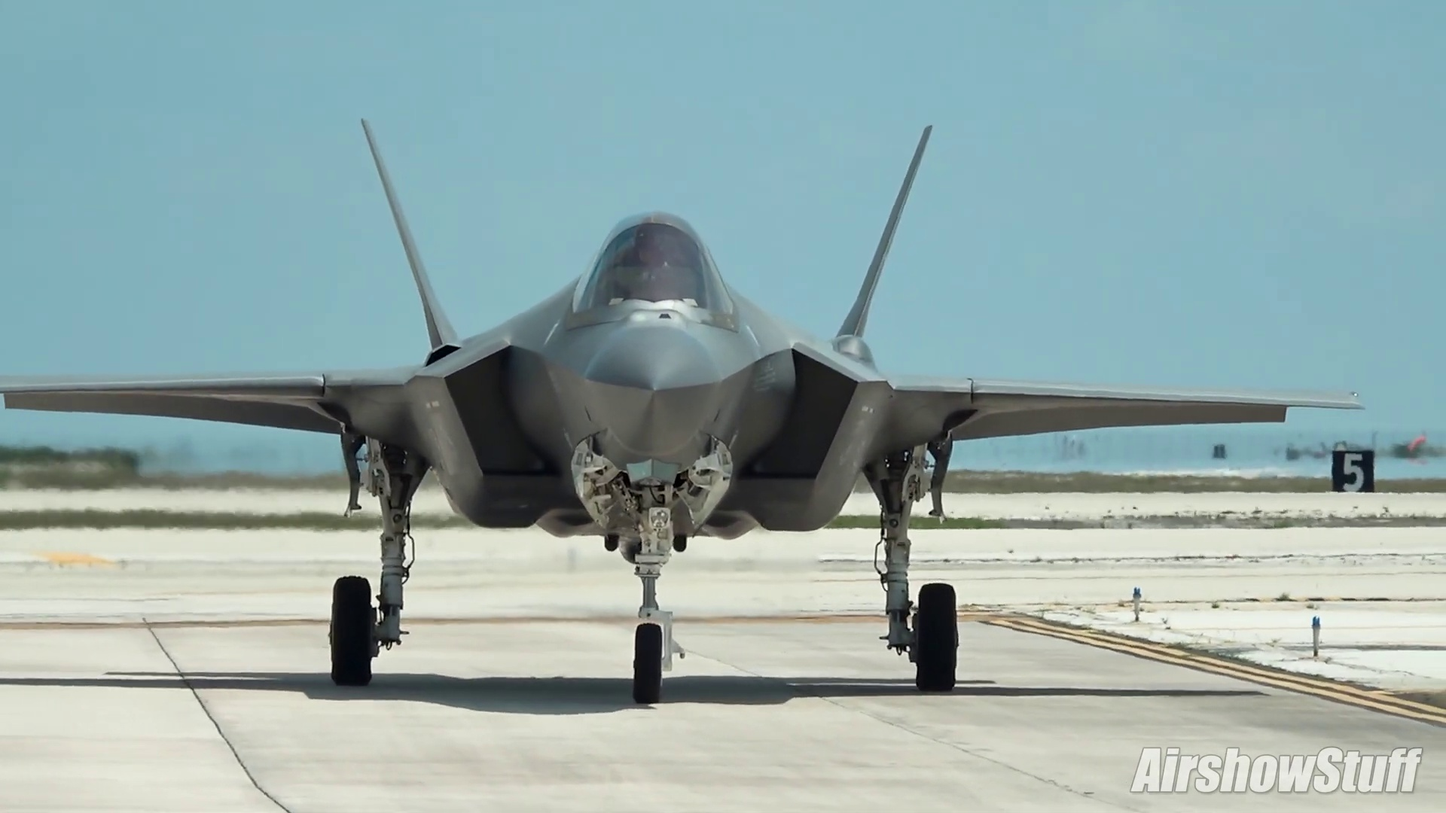F35: (0, 111, 1363, 705)
